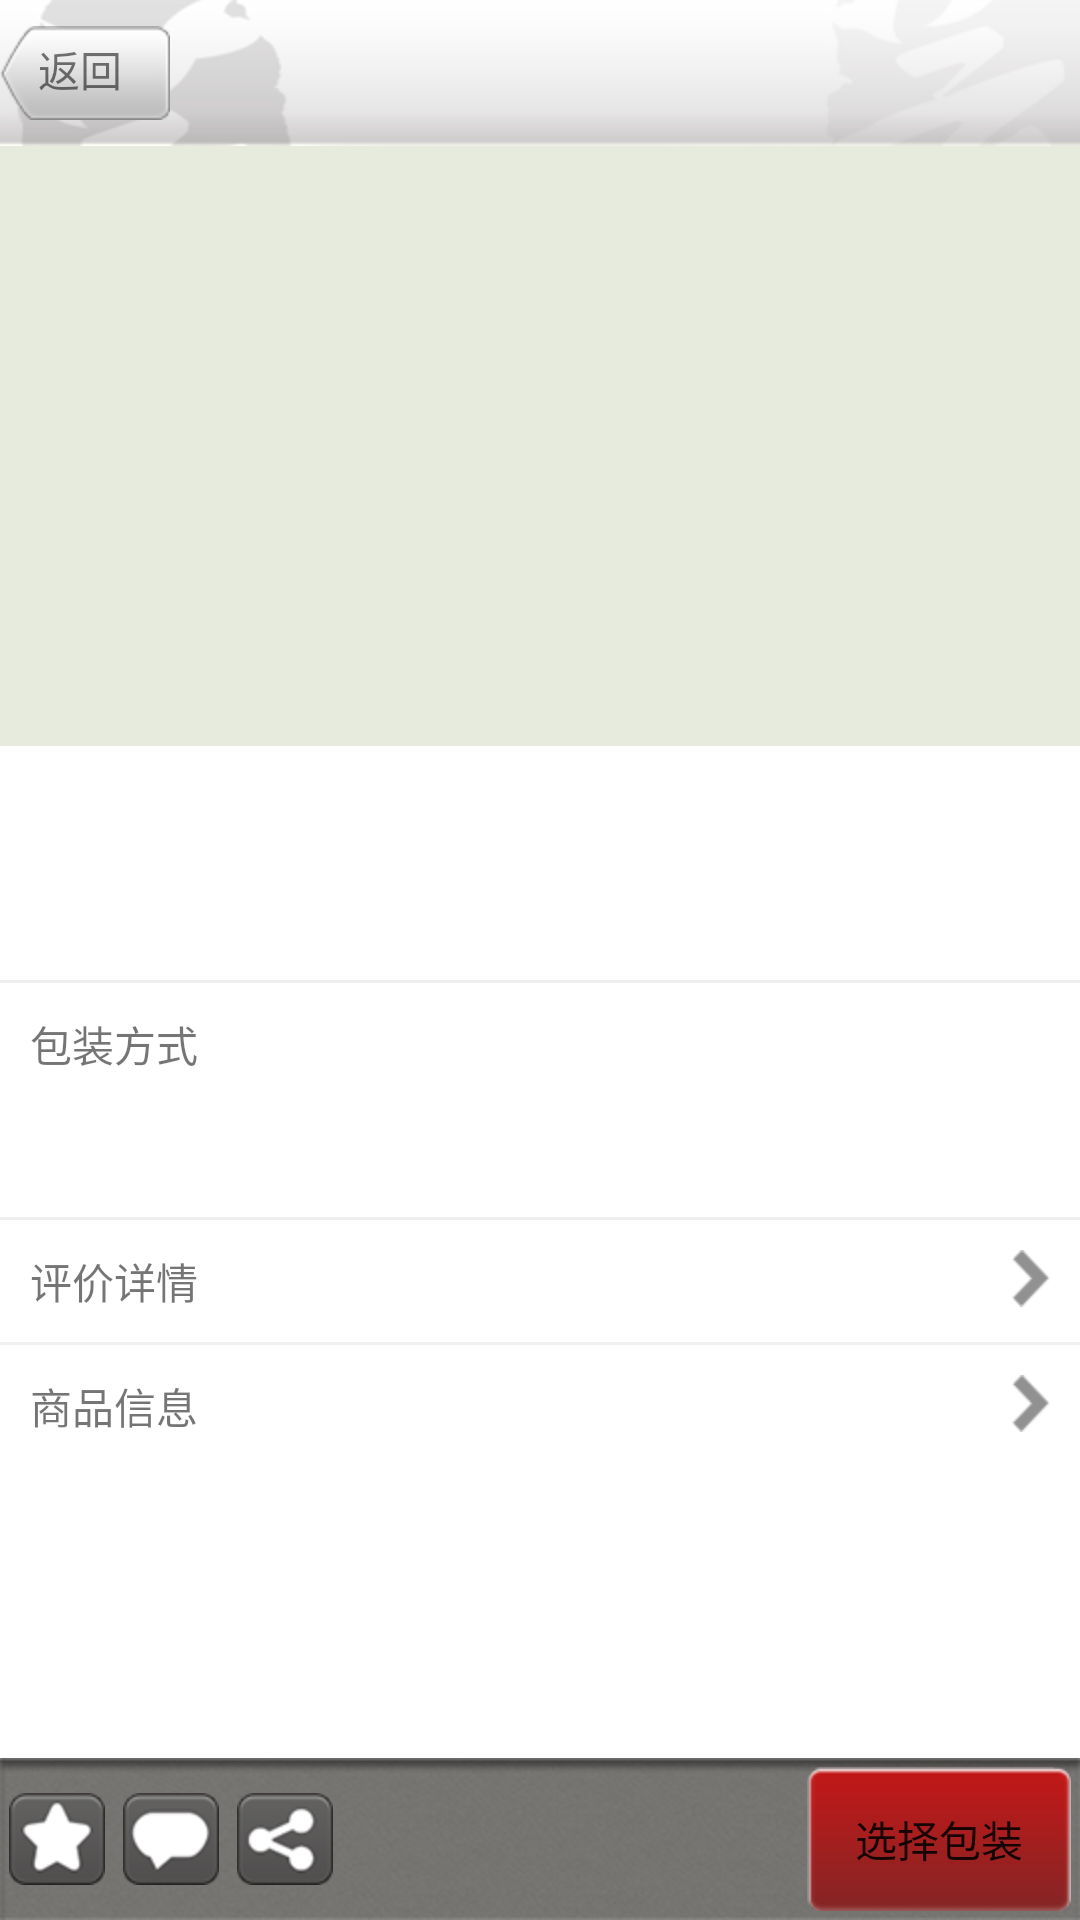

Icons on this 1080px x 1920px Android screen, each with the point to tap as [x,y]:
chevron: [1031,1278], [1031,1403]
collect: [57,1839]
comment: [171,1839]
